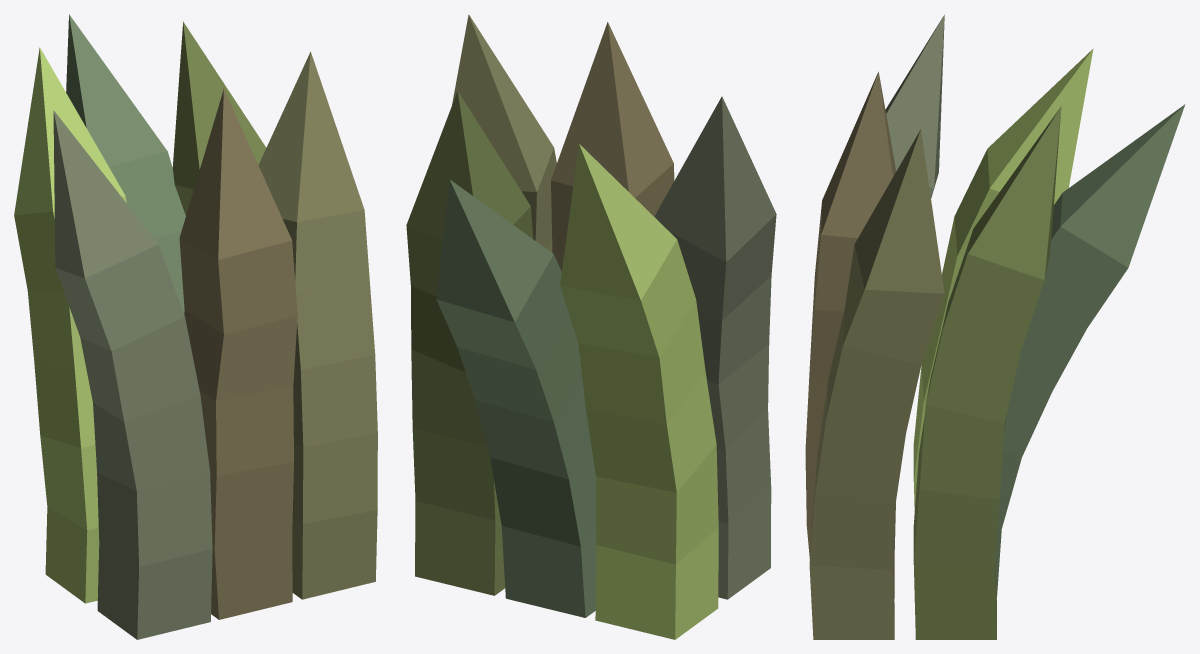
Rendered from V_Grama1.fbx.
3 views of the same model, side by side, from view 1: azimuth 30°, elevation 25°; view 2: azimuth 150°, elevation 25°; view 3: azimuth 270°, elevation 25° (orthographic). The views are drawn at different scales.
Parts seen in each view (by area): view 1: Cube.004; view 2: Cube.004; view 3: Cube.004.
Part boxes in pixels (box(x1,y1,x2,y2)): Cube.004: box(14, 14, 377, 639); Cube.004: box(406, 14, 776, 639); Cube.004: box(805, 14, 1185, 639).
Size of the model in its own units: 178 by 301 by 204.
